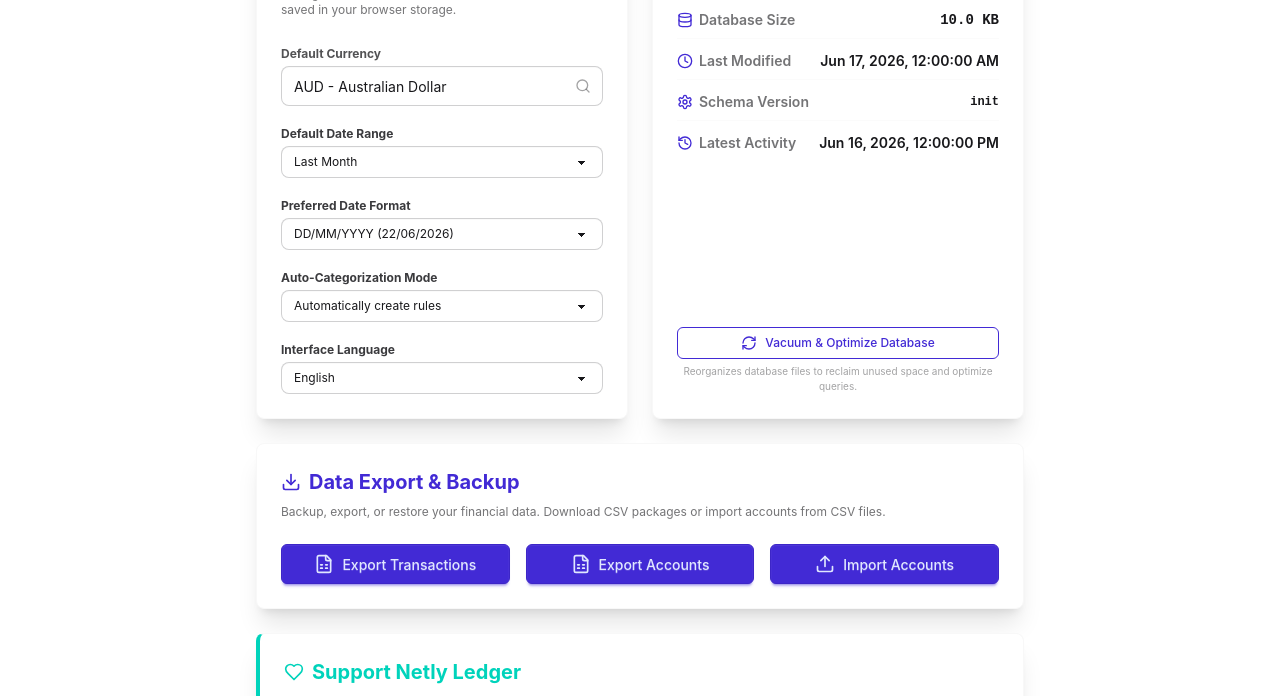
Test: DatabaseInfoCard › handles database vacuum error gracefully
(page scrolled)
Click the button "Vacuum & Optimize Database".
click(838, 343)  # box [677, 327, 999, 359]
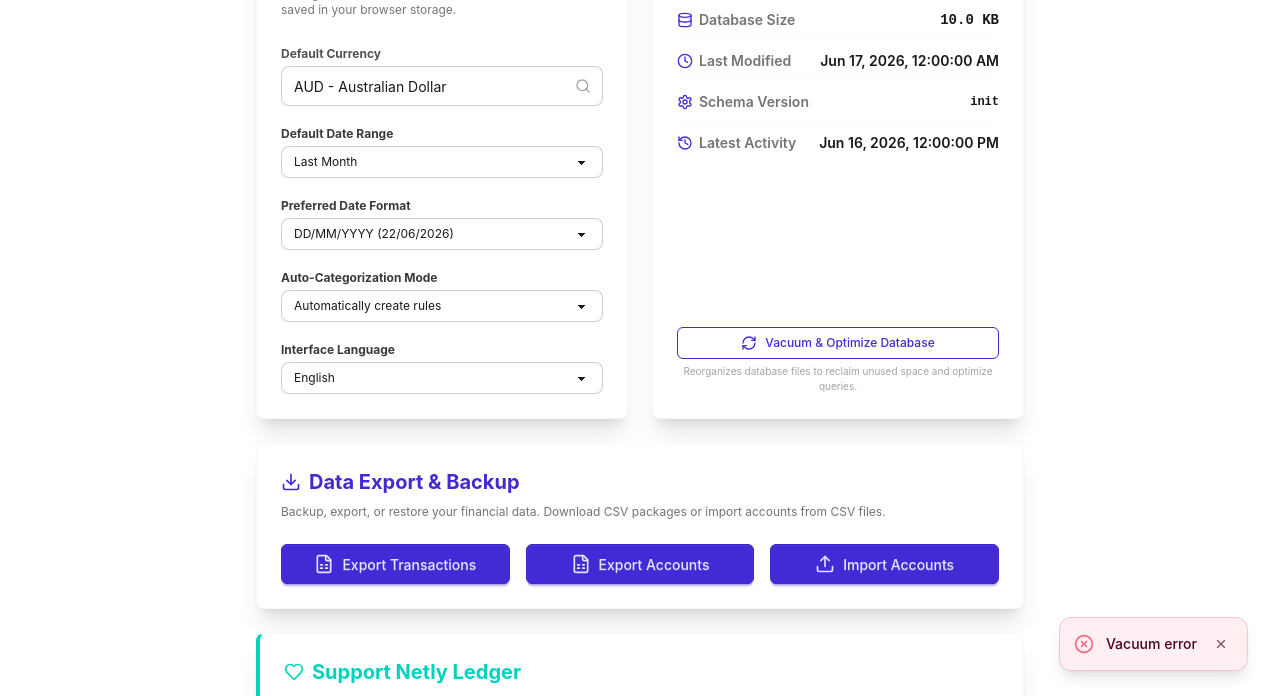
Now the text "Vacuum error" is shown, box [1106, 634, 1197, 654]
